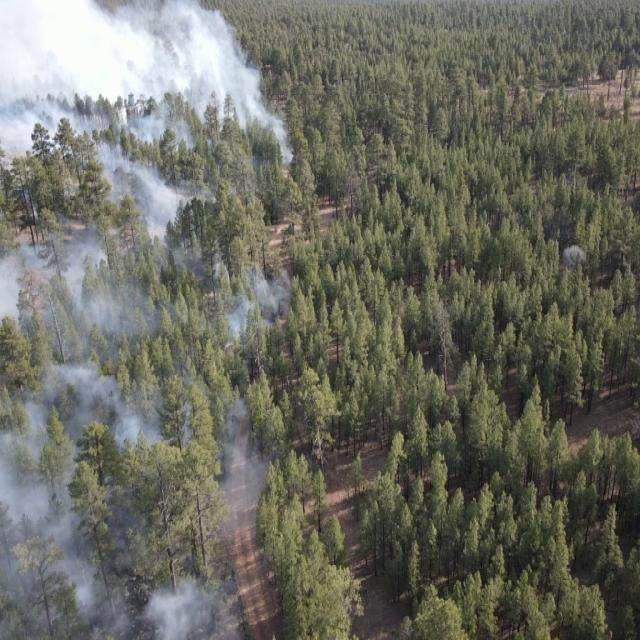smoke: (1, 0, 287, 640)
